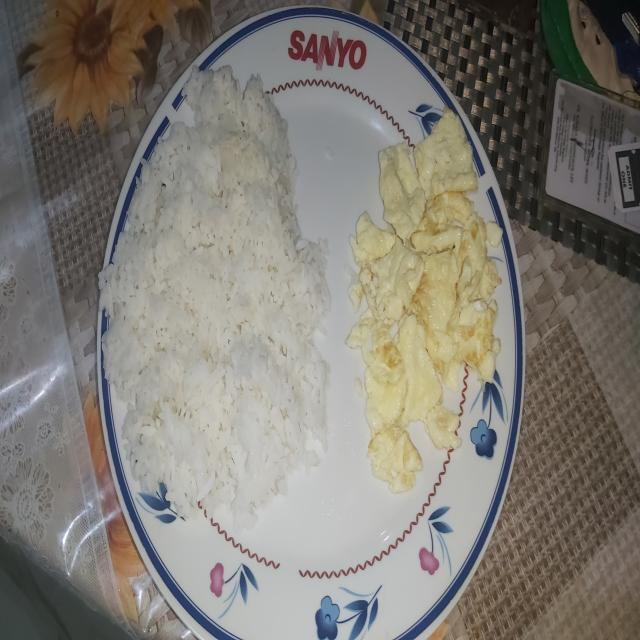Chicken -Chicken Inasal-: (111, 66, 323, 502)
